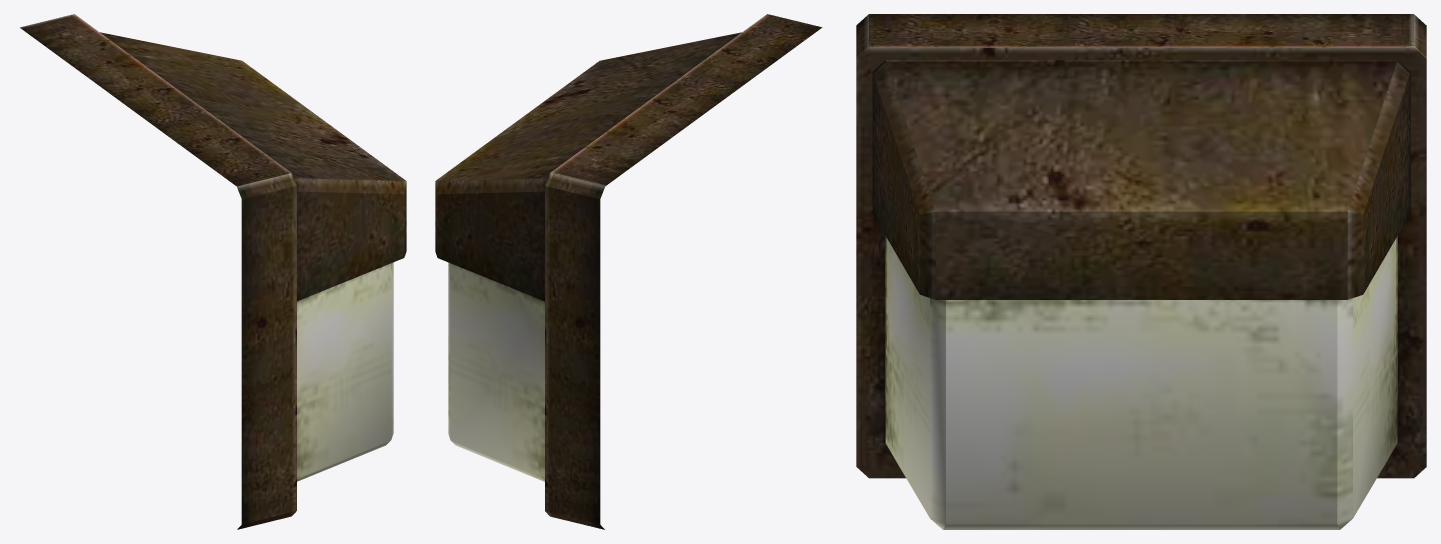
File: light_security.glb
3 renders of one model, left to right at view 1: azimuth 30°, elevation 25°; view 2: azimuth 150°, elevation 25°; view 3: azimuth 270°, elevation 25°, orthographic. The views are drawn at different scales.
Visible parts, largest first — view 1: 0_Light_security2, 1_Light_security; view 2: 0_Light_security2, 1_Light_security; view 3: 0_Light_security2, 1_Light_security.
Boxes of the visible parts, x1,y1,x2,y2 form: 0_Light_security2: (20,14,406,529); 1_Light_security: (297,262,393,481); 0_Light_security2: (435,14,822,529); 1_Light_security: (448,262,544,481); 0_Light_security2: (856,14,1426,478); 1_Light_security: (885,235,1397,529).
Size of the model in its own units: 0.228 by 0.381 by 0.4574.
Materials: 2 (2 with a texture image).
